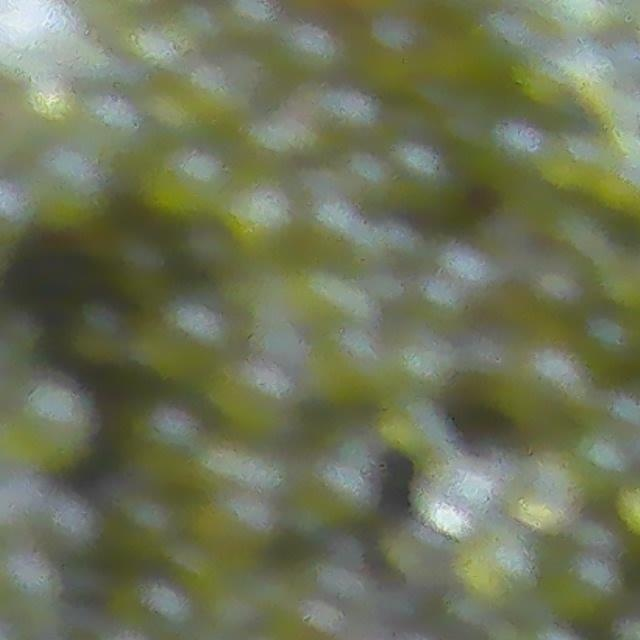SeaGrape: (140, 140, 235, 228), (214, 172, 305, 260), (412, 453, 503, 536), (457, 531, 538, 609), (1, 0, 69, 68)
